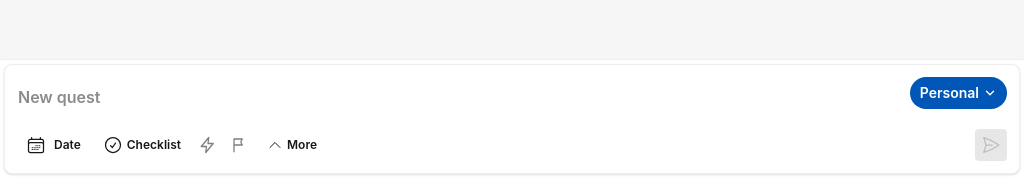
Test: NewQuestForm › starts collapsed and expands metadata without losing the title draft
The width and height of the screenshot is (1024, 178).
Type "Capture fast quest" into the field with test id "chat-input" at (459, 97), box [17,77,902,117]
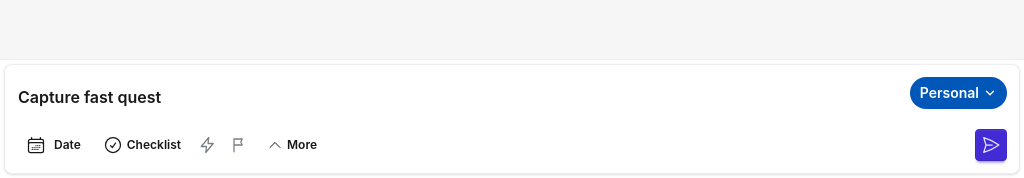
Click the button with test id "new-quest-expand" at (292, 145), box [258,129,326,161]
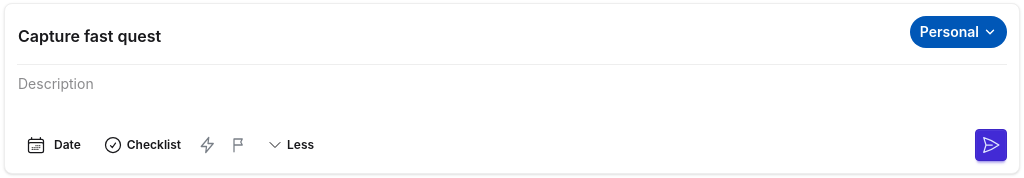
Expected: the text box with test id "new-quest-description" is shown, [17,73,337,117]
Expected: the button with test id "new-quest-expand" is expanded, [258,129,323,161]
Expected: the button with test id "new-quest-expand" reads "Less", [258,129,323,161]
